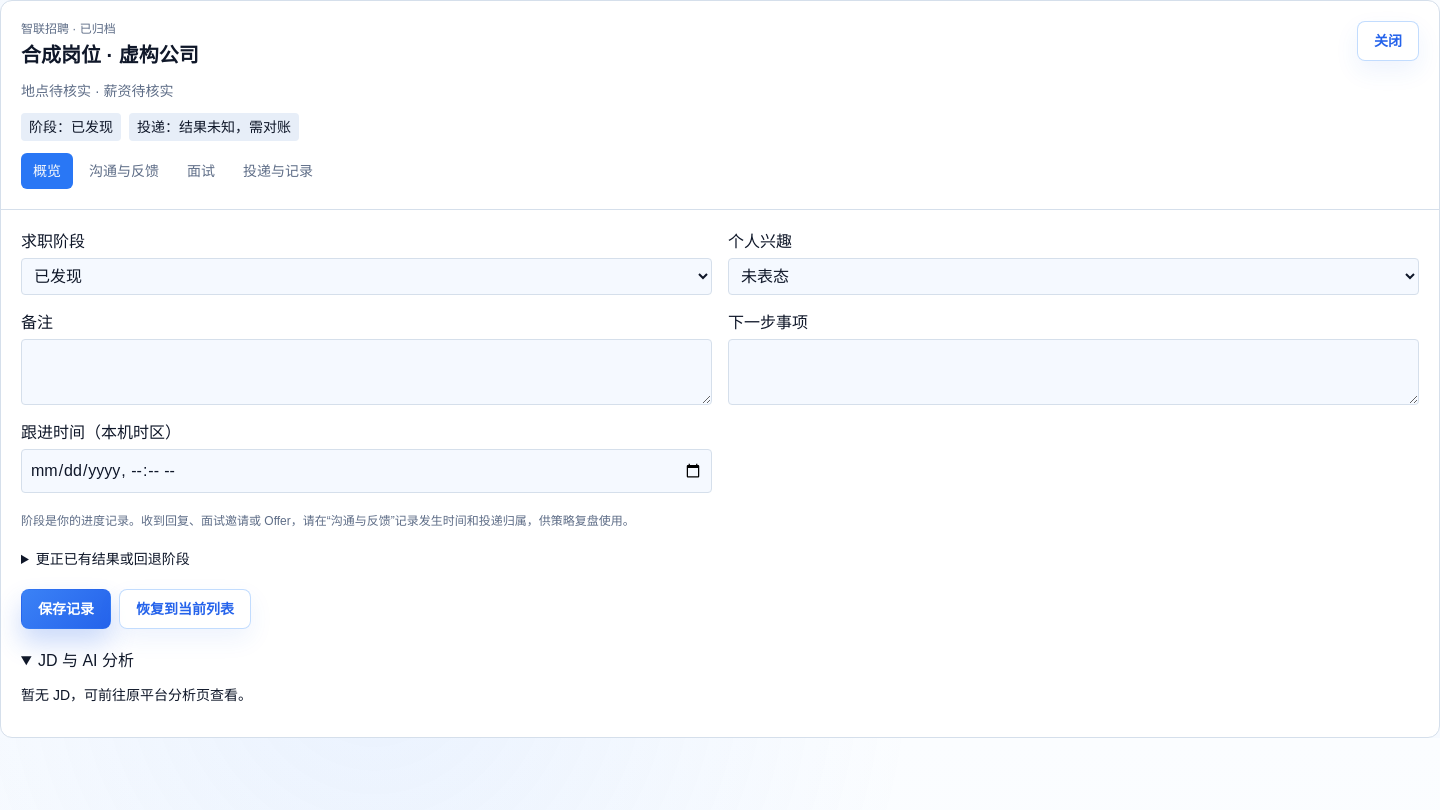
Test: keeps the idempotency key after a lost response and reports version conflicts
Click the button "保存记录" at (66, 609), box [21,589,111,629]
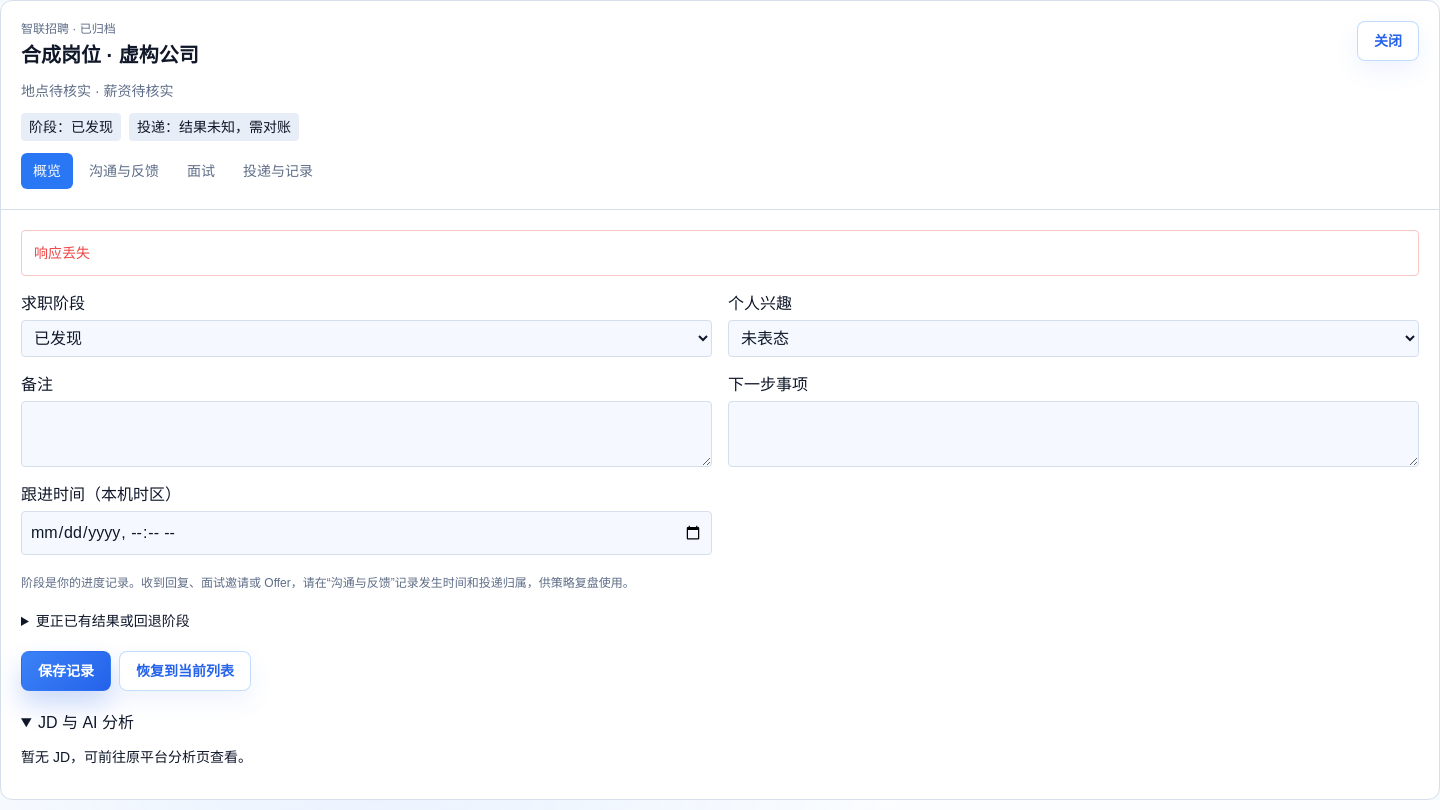
expect the text "响应丢失" is shown: met, box [21,230,1419,276]
Click the button "保存记录" at (66, 671), box [21,651,111,691]
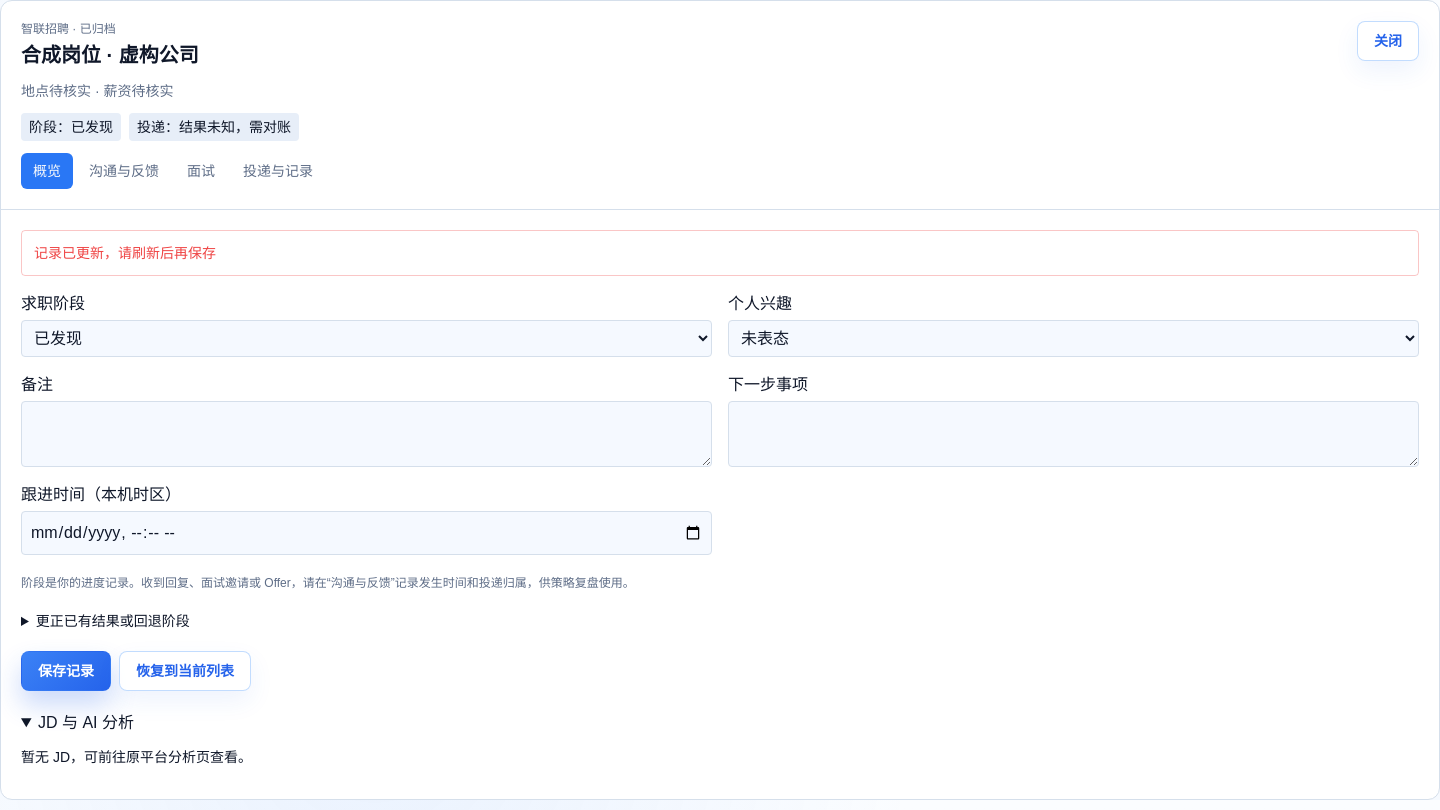
expect the text "记录已更新，请刷新后再保存" is shown: met, box [21,230,1419,276]
